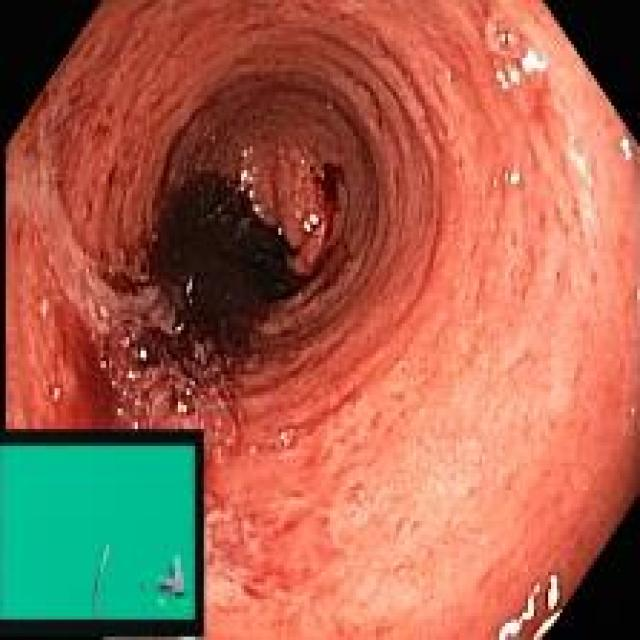ulcerative-colitis-grade-3: (8, 3, 640, 640)
